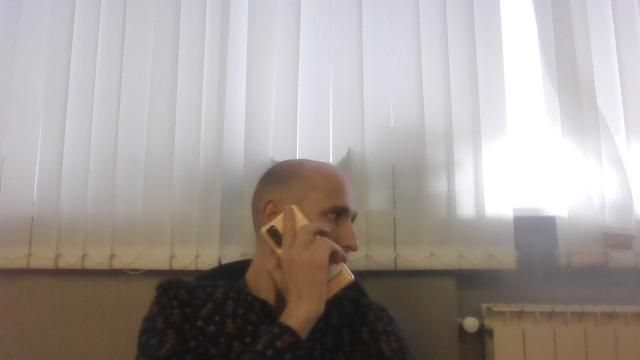PhoneUse: (258, 204, 356, 304)
